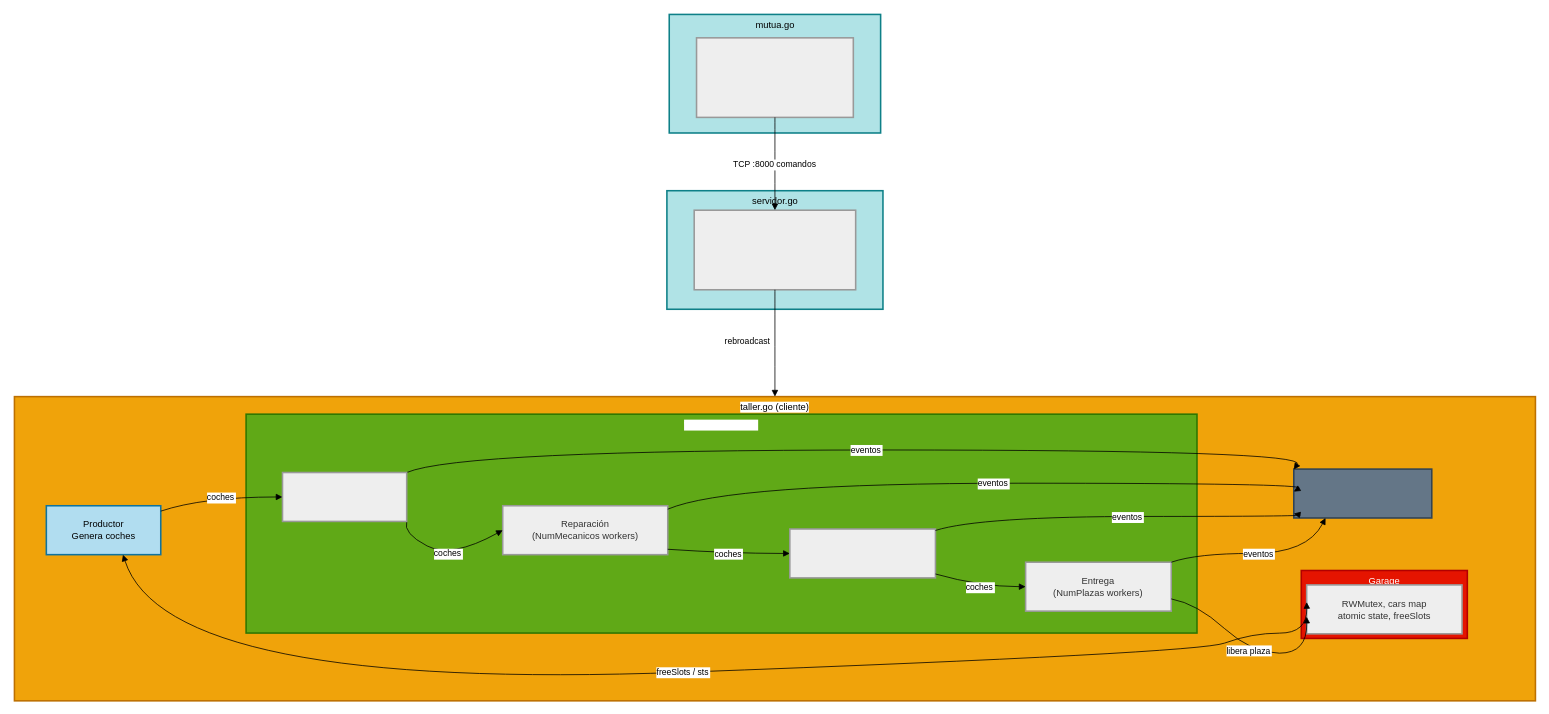
Some shapes in this 1549 by 714 pixel diagram are drawn without their labels. Each missing label, with the centre of its shape:
"Cliente simulador Envía comandos 0-9 Números aleatorios" goes at point 774,77.
"Documentacion (Numplazas)" goes at point 344,496.
"Escucha en :8000 Broadcaster pattern Gestiona conexiones" goes at point 774,249.
"Limpieza (NumPlazas workers)" goes at point 862,553.
"Logger Único writer stdout" goes at point 1362,493.
